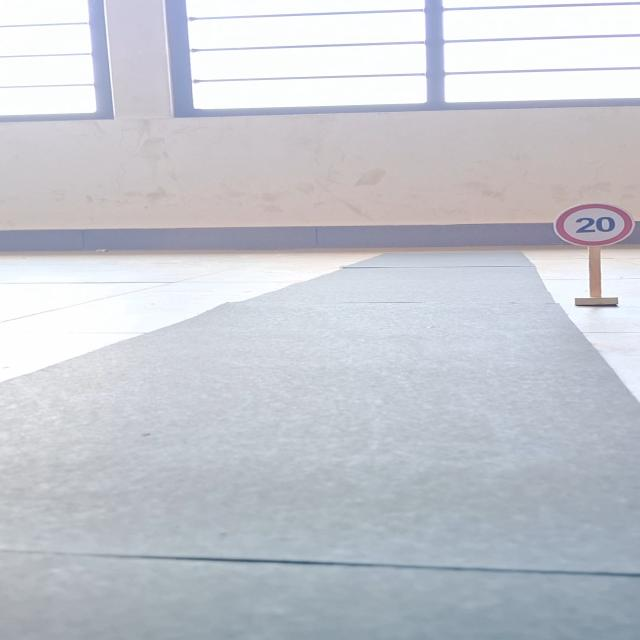Speed20: (542, 200, 640, 249)
